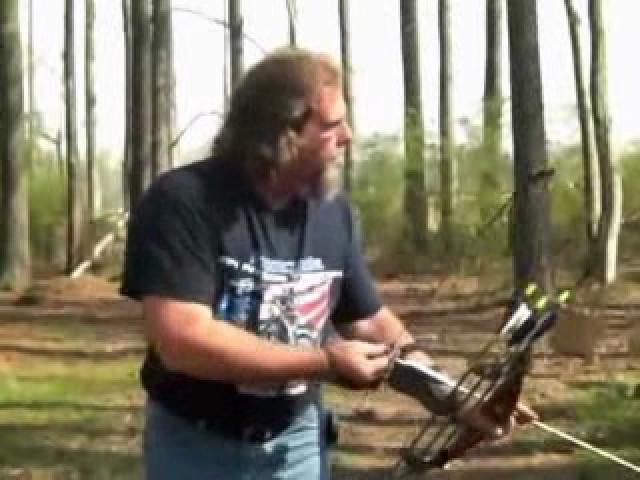I: (119, 47, 537, 429)
